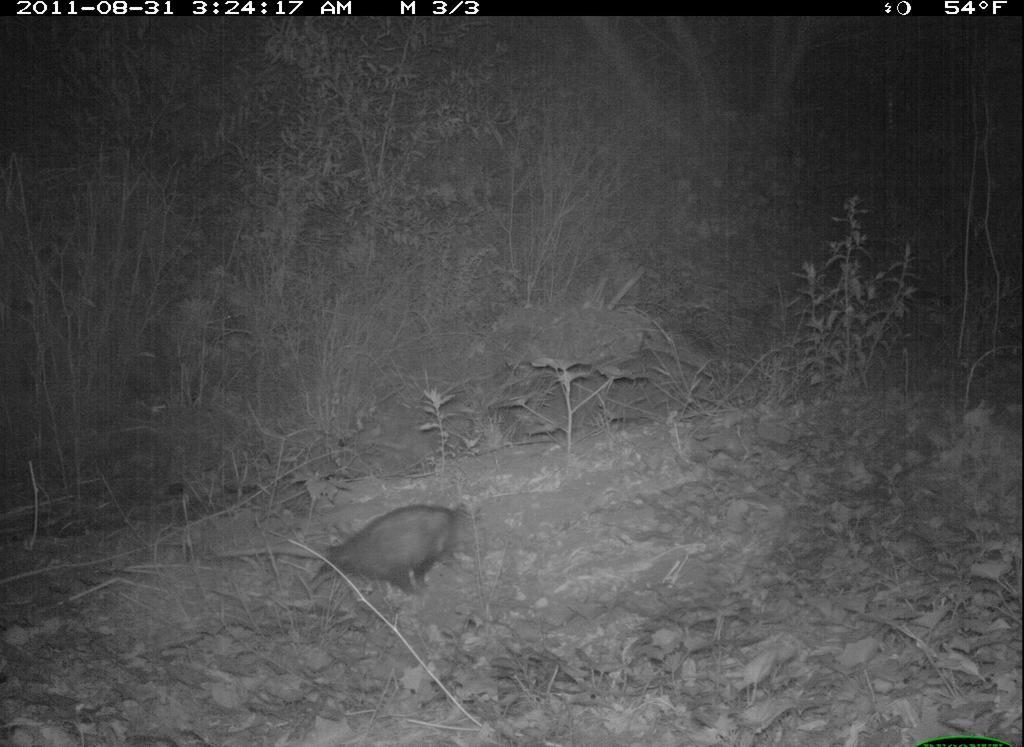opossum: (294, 493, 479, 612)
